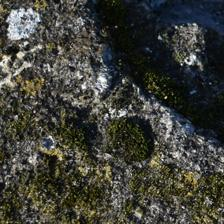Crack: (44, 5, 174, 141)
